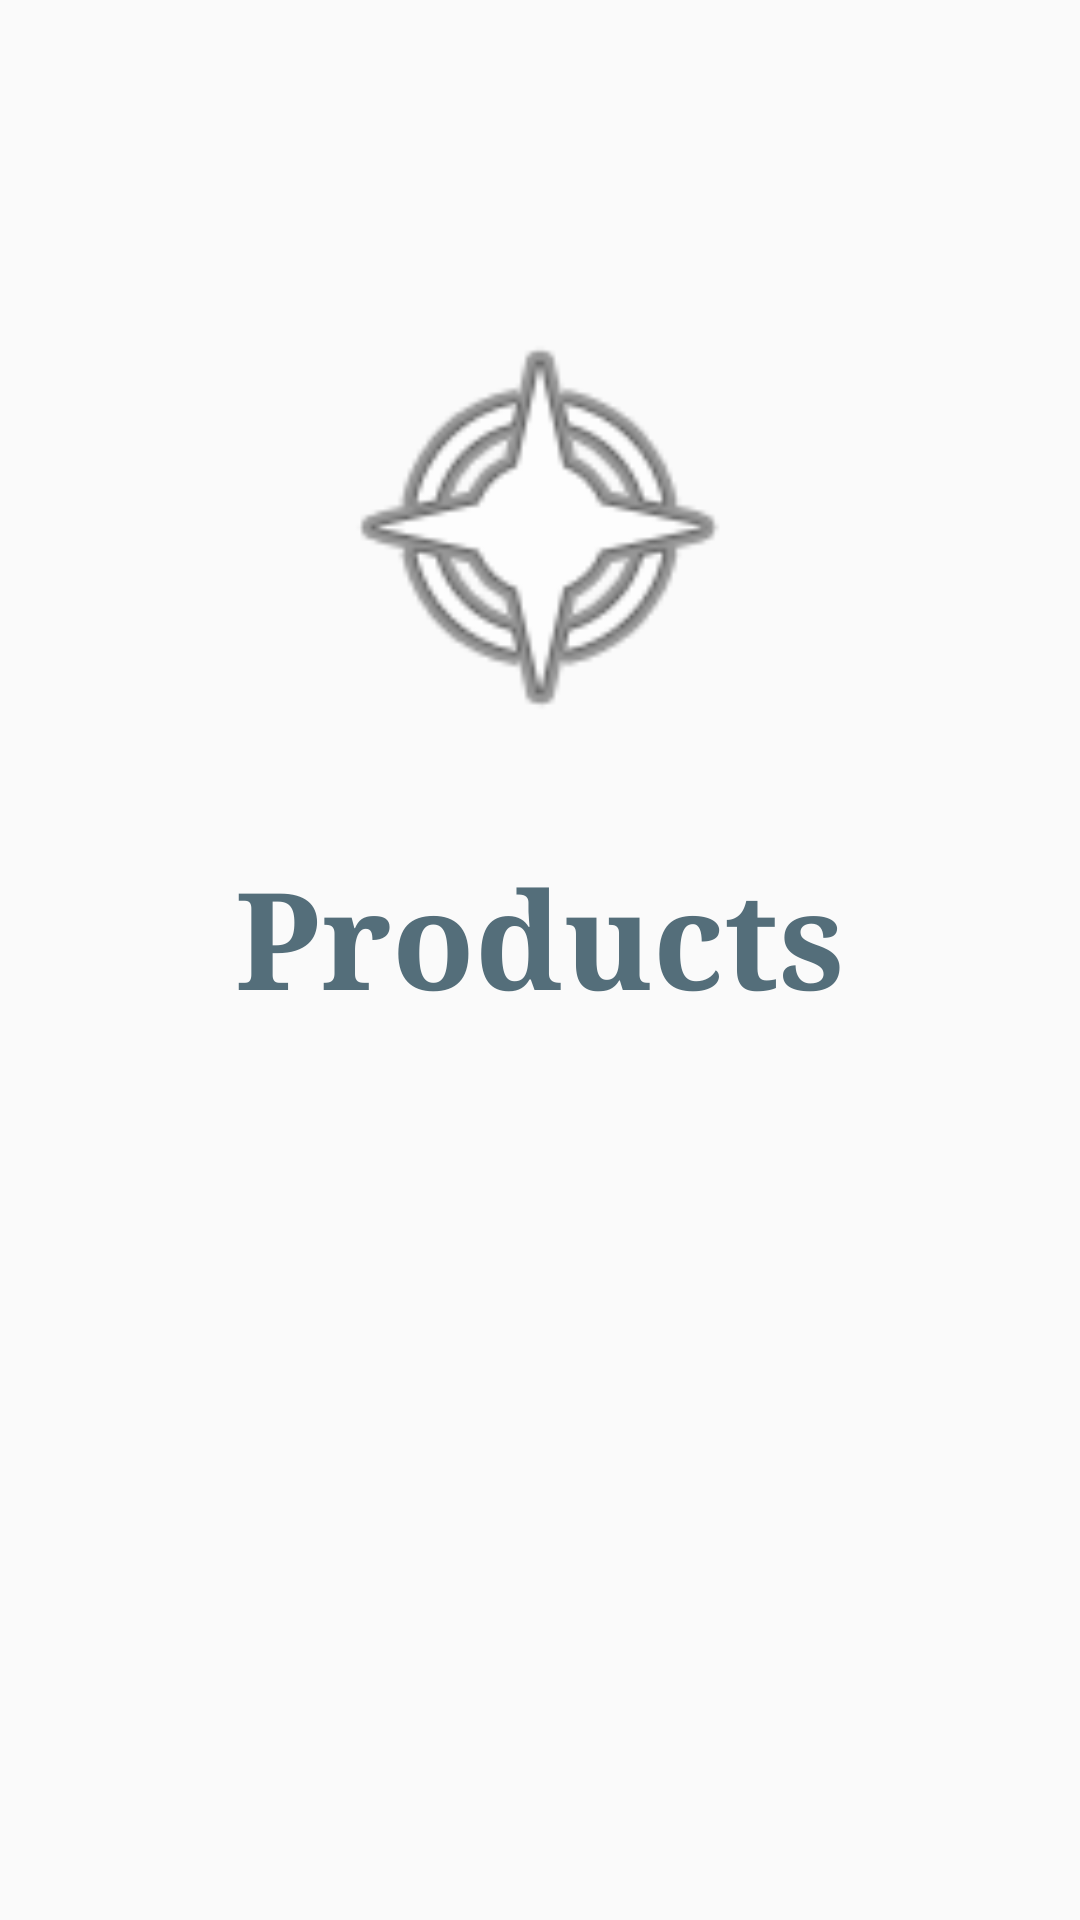

Icons on this 1080×1920 Android screen, each with its box as {"x1": x1, "y1": y1, "x2": x2, "y2": y2}:
compass: {"x1": 360, "y1": 350, "x2": 717, "y2": 705}
